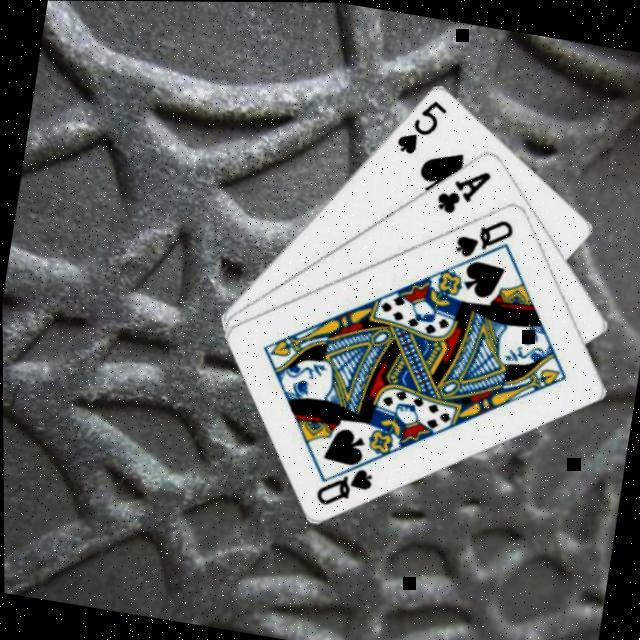5S: (390, 88, 449, 158)
AC: (429, 158, 493, 220)
QS: (308, 454, 376, 512), (449, 206, 516, 264)
